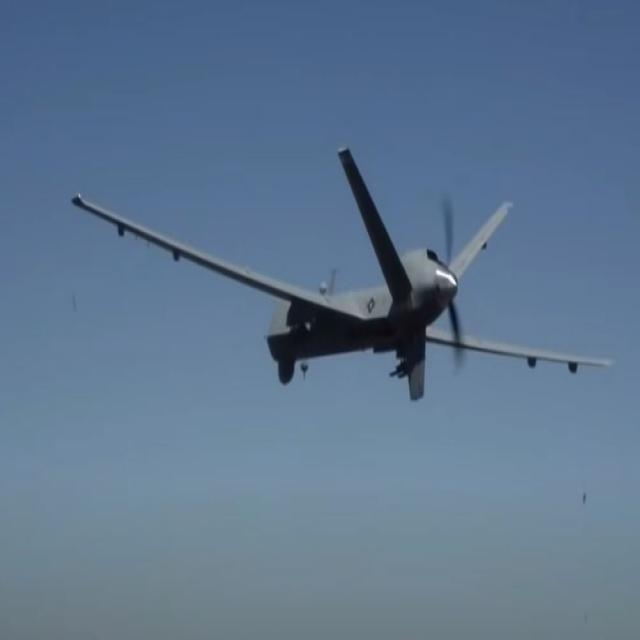iha: (71, 143, 614, 403)
